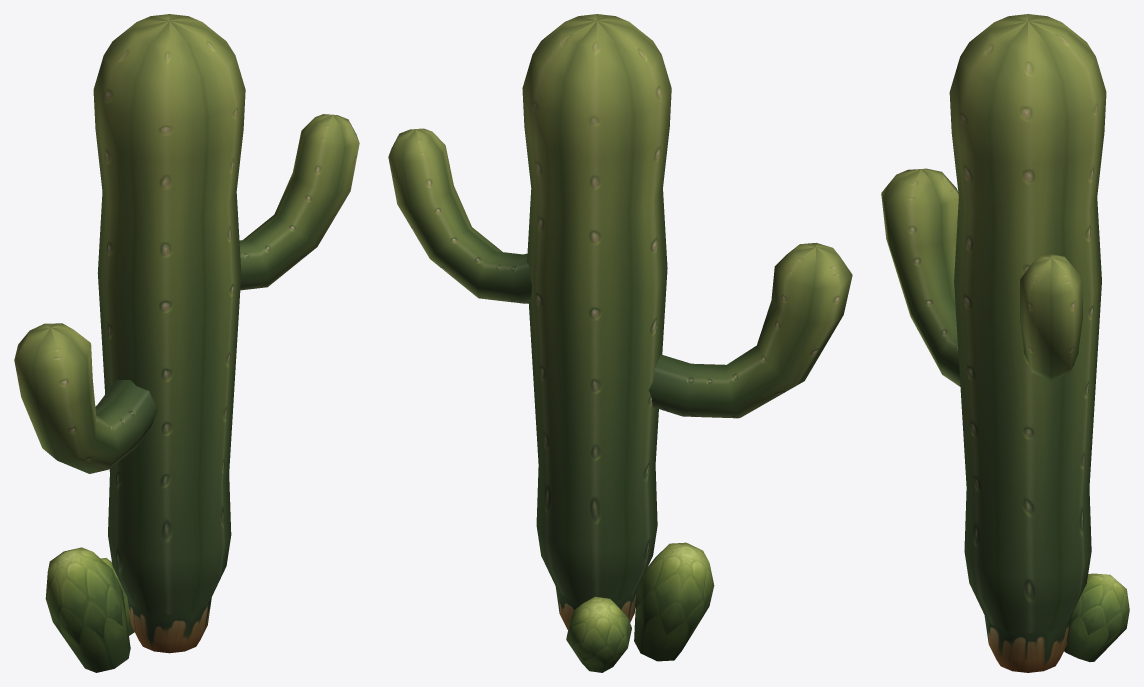
Rendered from Desert_cactus_02.fbx.
The picture shows the model from 3 angles, left to right: view 1: azimuth 30°, elevation 25°; view 2: azimuth 150°, elevation 25°; view 3: azimuth 270°, elevation 25°; orthographic projection. The views are drawn at different scales.
Visible parts, largest first — view 1: Desert_cactus_02; view 2: Desert_cactus_02; view 3: Desert_cactus_02.
Part boxes in pixels (x1=…): Desert_cactus_02: x1=14, y1=14, x2=359, y2=672; Desert_cactus_02: x1=388, y1=14, x2=852, y2=672; Desert_cactus_02: x1=881, y1=14, x2=1129, y2=672.
Bounding box in the file's own units: 154 × 233 × 80.26.
